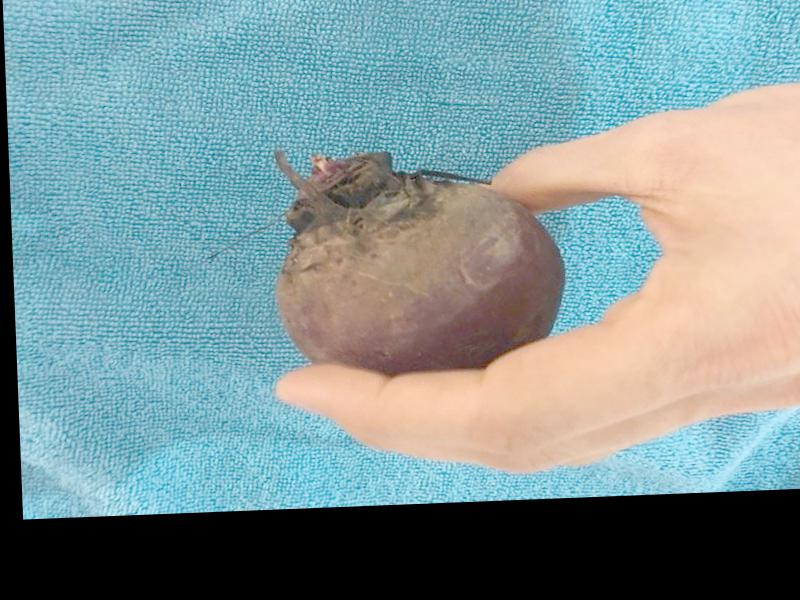Beet: (272, 140, 565, 378)
